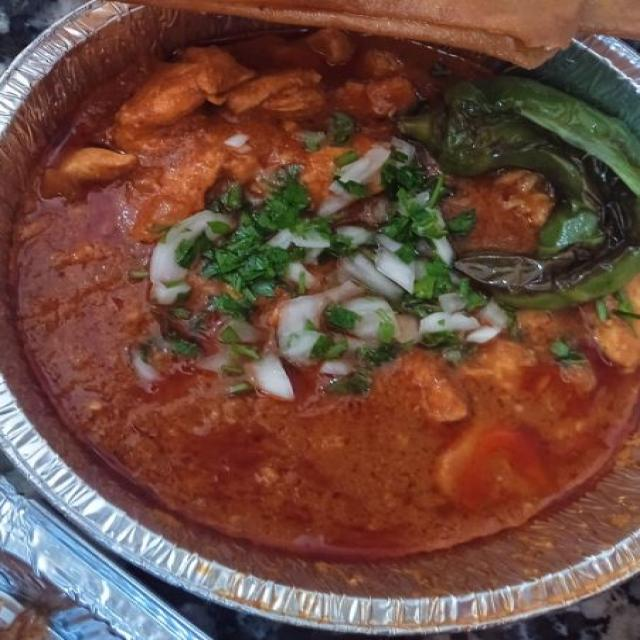kamouniya: (35, 68, 633, 558)
